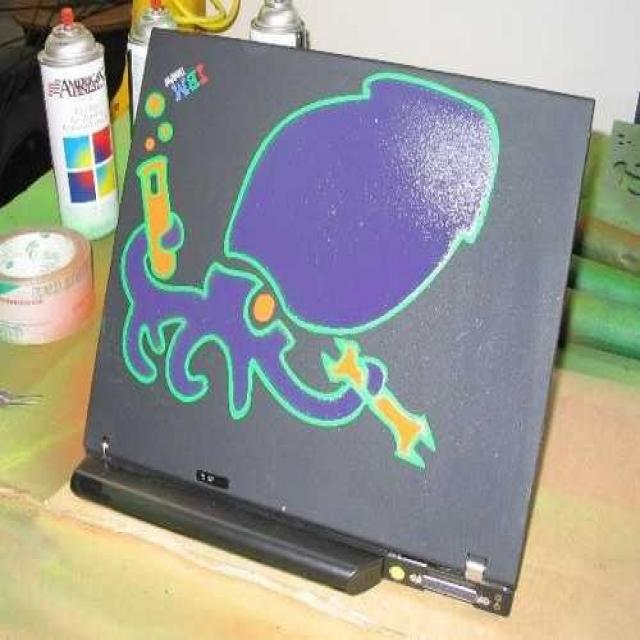laptop: (114, 24, 590, 616)
